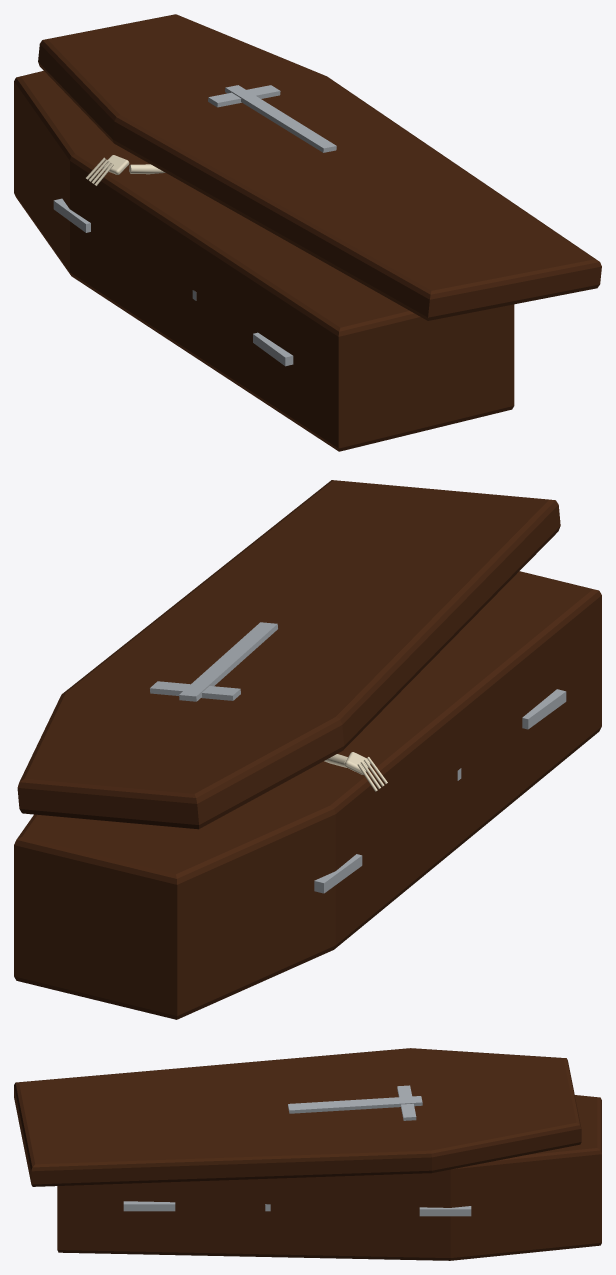
The model's file is COFFIN.glb.
3 views of the same model, one above another, from view 1: azimuth 30°, elevation 25°; view 2: azimuth 150°, elevation 25°; view 3: azimuth 270°, elevation 25° (orthographic). The views are drawn at different scales.
Visible parts, largest first — view 1: timber_0, steel_2, bone_3; view 2: timber_0, steel_2, bone_3; view 3: timber_0, steel_2.
Boxes of the visible parts, x1,y1,x2,y2 form: timber_0: (14, 14, 601, 451); steel_2: (53, 85, 336, 366); bone_3: (86, 155, 165, 185); timber_0: (14, 480, 601, 1019); steel_2: (150, 622, 566, 893); bone_3: (324, 752, 387, 791); timber_0: (14, 1048, 601, 1260); steel_2: (123, 1085, 471, 1216).
Size of the model in its own units: 0.9899 by 0.5982 by 2.28.
